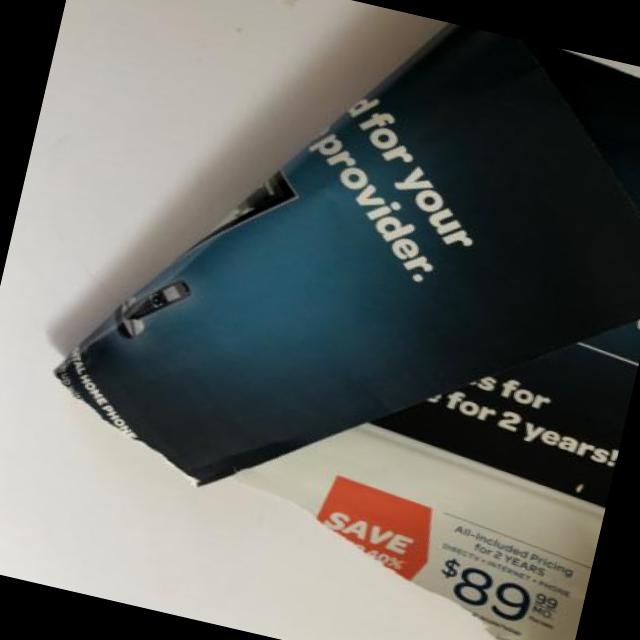paper: (79, 0, 640, 538), (373, 395, 606, 640)
